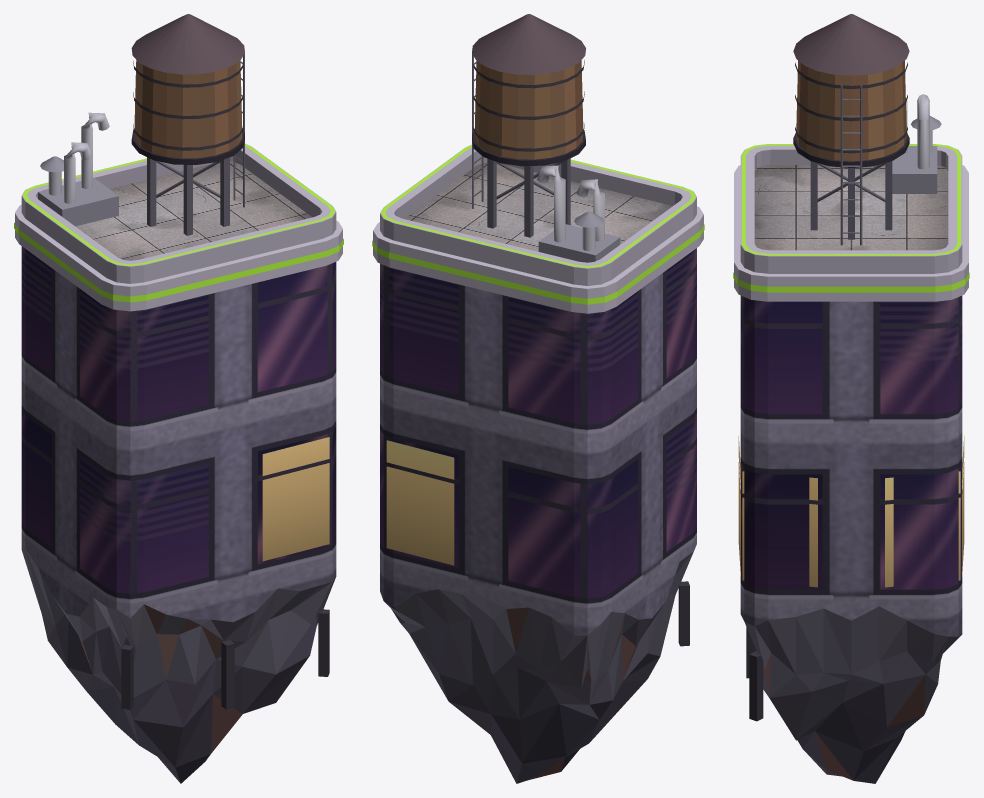
The model's file is islet_1.glb.
The picture shows the model from 3 angles, left to right: view 1: azimuth 30°, elevation 25°; view 2: azimuth 150°, elevation 25°; view 3: azimuth 270°, elevation 25°; orthographic projection.
Visible parts, largest first — view 1: Island, Lit_Windows, Neon_b6ff3b; view 2: Island, Lit_Windows, Neon_b6ff3b; view 3: Island, Lit_Windows, Neon_b6ff3b.
Boxes of the visible parts, left/top/right/bottom form: Island: left=15, top=14, right=342, bottom=783; Lit_Windows: left=262, top=437, right=329, bottom=561; Neon_b6ff3b: left=14, top=144, right=343, bottom=302; Island: left=373, top=14, right=703, bottom=783; Lit_Windows: left=386, top=440, right=454, bottom=565; Neon_b6ff3b: left=372, top=145, right=704, bottom=304; Island: left=734, top=14, right=968, bottom=783; Lit_Windows: left=738, top=436, right=964, bottom=587; Neon_b6ff3b: left=733, top=144, right=969, bottom=292.
Size of the model in its own units: 5.07 by 15.33 by 4.27.
Materials: 5 (2 with a texture image).
